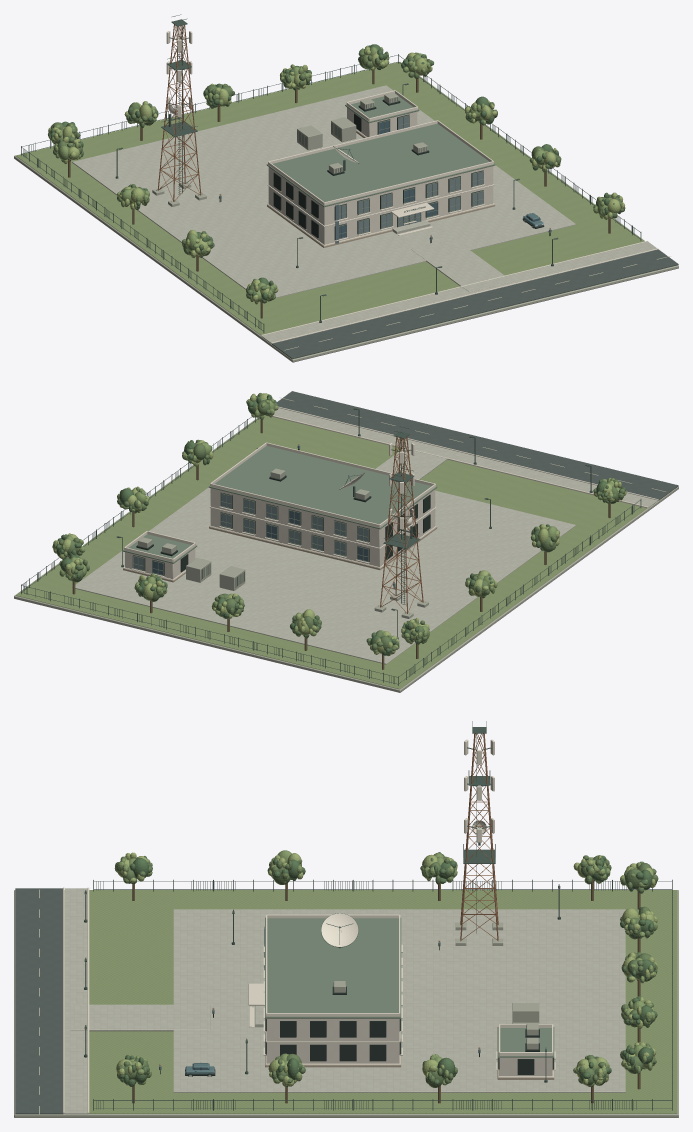
File: communications-connected.glb
The picture shows the model from 3 angles, top to bottom: view 1: azimuth 30°, elevation 25°; view 2: azimuth 150°, elevation 25°; view 3: azimuth 270°, elevation 25°; orthographic projection. The views are drawn at different scales.
Visible parts, largest first — view 1: 材质批次_plaza_paving, 材质批次_grass, 材质批次_sage_metal_roof, 材质批次_asphalt, 材质批次_warm_cream_trim, 材质批次_limestone, 材质批次_poi_service_concrete, 材质批次_street_metal, 材质批次_leaf_2, 材质批次_leaf_0, 材质批次_leaf_1, 材质批次_communications_tower (+6 smaller); view 2: 材质批次_plaza_paving, 材质批次_grass, 材质批次_sage_metal_roof, 材质批次_asphalt, 材质批次_warm_cream_trim, 材质批次_limestone, 材质批次_street_metal, 材质批次_poi_service_concrete, 材质批次_leaf_1, 材质批次_leaf_2, 材质批次_communications_tower, 材质批次_leaf_0 (+7 smaller); view 3: 材质批次_plaza_paving, 材质批次_grass, 材质批次_sage_metal_roof, 材质批次_asphalt, 材质批次_warm_cream_trim, 材质批次_street_metal, 材质批次_poi_service_concrete, 材质批次_limestone, 材质批次_leaf_1, 材质批次_leaf_3, 材质批次_leaf_2, 材质批次_recess_shadow (+4 smaller).
Boxes of the visible parts, x1,y1,x2,y2 form: 材质批次_plaza_paving: (72, 85, 656, 343); 材质批次_grass: (16, 62, 644, 335); 材质批次_sage_metal_roof: (266, 96, 495, 207); 材质批次_asphalt: (272, 249, 678, 359); 材质批次_warm_cream_trim: (166, 31, 658, 343); 材质批次_limestone: (268, 107, 493, 244); 材质批次_poi_service_concrete: (14, 62, 678, 362); 材质批次_street_metal: (21, 14, 641, 332); 材质批次_leaf_2: (48, 45, 624, 301); 材质批次_leaf_0: (48, 47, 612, 304); 材质批次_leaf_1: (48, 49, 624, 301); 材质批次_communications_tower: (157, 24, 201, 201); 材质批次_plaza_paving: (72, 408, 657, 664); 材质批次_grass: (16, 415, 646, 689); 材质批次_sage_metal_roof: (123, 446, 437, 563); 材质批次_asphalt: (276, 391, 678, 500); 材质批次_warm_cream_trim: (124, 406, 658, 579); 材质批次_limestone: (125, 488, 435, 579); 材质批次_street_metal: (21, 408, 641, 685); 材质批次_poi_service_concrete: (14, 417, 678, 692); 材质批次_leaf_1: (52, 393, 625, 654); 材质批次_leaf_2: (52, 393, 626, 654); 材质批次_communications_tower: (380, 437, 423, 613); 材质批次_leaf_0: (53, 397, 622, 655); 材质批次_plaza_paving: (65, 888, 625, 1114); 材质批次_grass: (64, 890, 677, 1113); 材质批次_sage_metal_roof: (265, 917, 554, 1057); 材质批次_asphalt: (15, 888, 63, 1114); 材质批次_warm_cream_trim: (63, 739, 555, 1113); 材质批次_street_metal: (84, 721, 672, 1110); 材质批次_poi_service_concrete: (14, 890, 678, 1117); 材质批次_limestone: (266, 1019, 552, 1076); 材质批次_leaf_1: (116, 855, 658, 1087); 材质批次_leaf_3: (115, 852, 657, 1086); 材质批次_leaf_2: (116, 852, 657, 1086); 材质批次_recess_shadow: (160, 946, 553, 1075).
Bounding box in the file's own units: 80.5 × 36.04 × 100.
28 materials, 5 textured.
